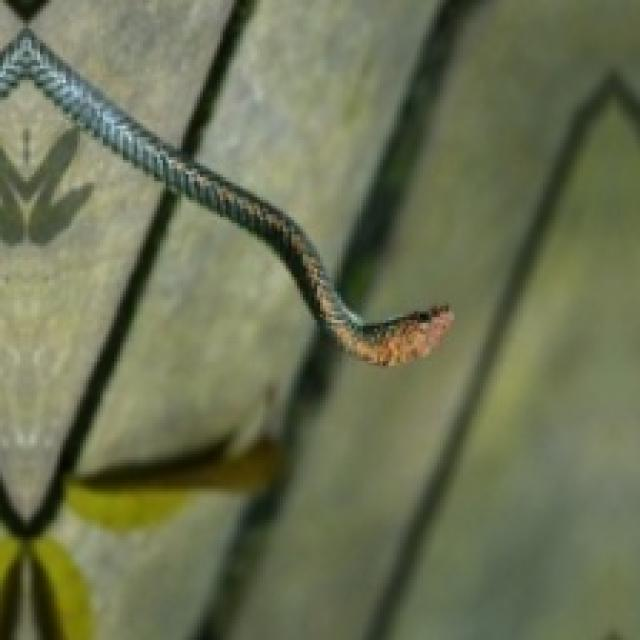paradise tree snake: (0, 29, 451, 363)
